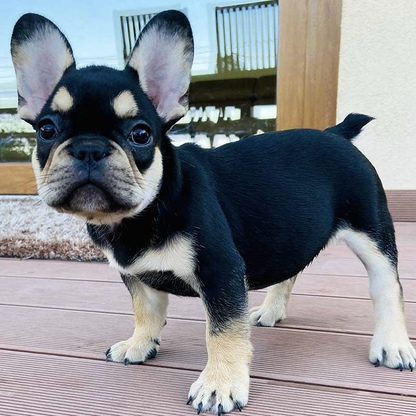bulldog: (9, 9, 416, 409)
